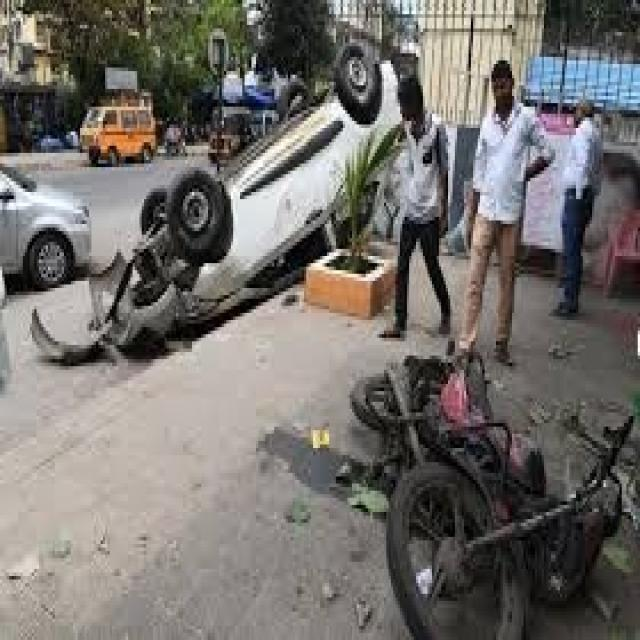accident: (99, 44, 403, 394), (338, 310, 638, 640)
